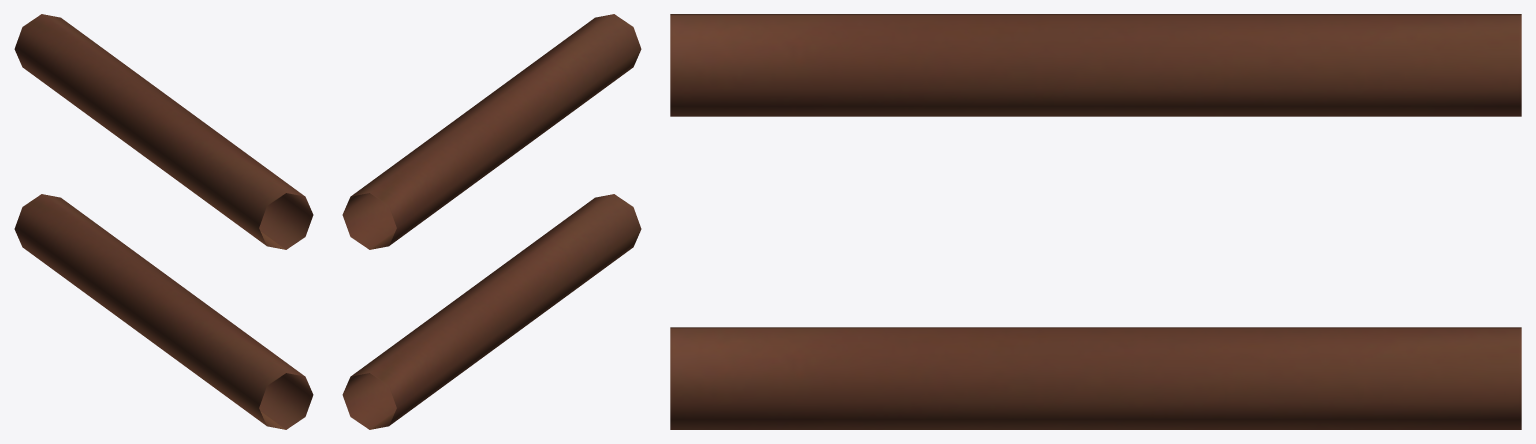
The model's file is fence crossbar.fbx.
3 renders of one model, left to right at view 1: azimuth 30°, elevation 25°; view 2: azimuth 150°, elevation 25°; view 3: azimuth 270°, elevation 25°, orthographic. The views are drawn at different scales.
Visible parts, largest first — view 1: Plane.004; view 2: Plane.004; view 3: Plane.004.
Boxes of the visible parts, x1=… form: Plane.004: x1=14, y1=14, x2=313, y2=429; Plane.004: x1=342, y1=14, x2=641, y2=429; Plane.004: x1=670, y1=14, x2=1521, y2=429.
Size of the model in its own units: 0.3948 by 1.64 by 3.07.
